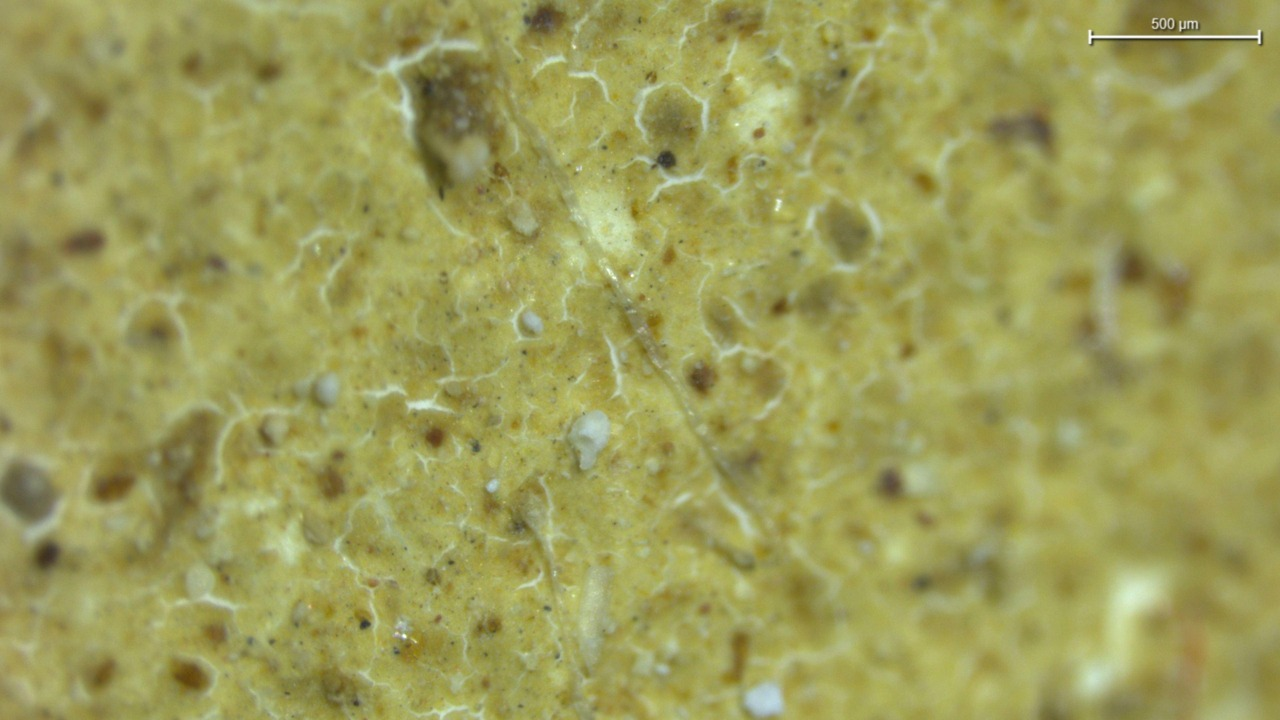microplastic_fragment: (403, 50, 511, 195), (568, 410, 610, 470)
